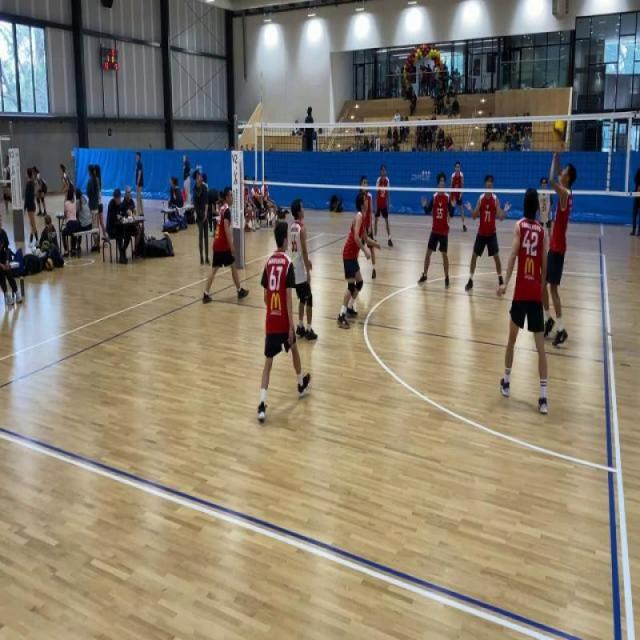volleyball: (552, 119, 566, 143), (45, 257, 54, 271), (163, 230, 169, 238), (148, 233, 152, 240)
